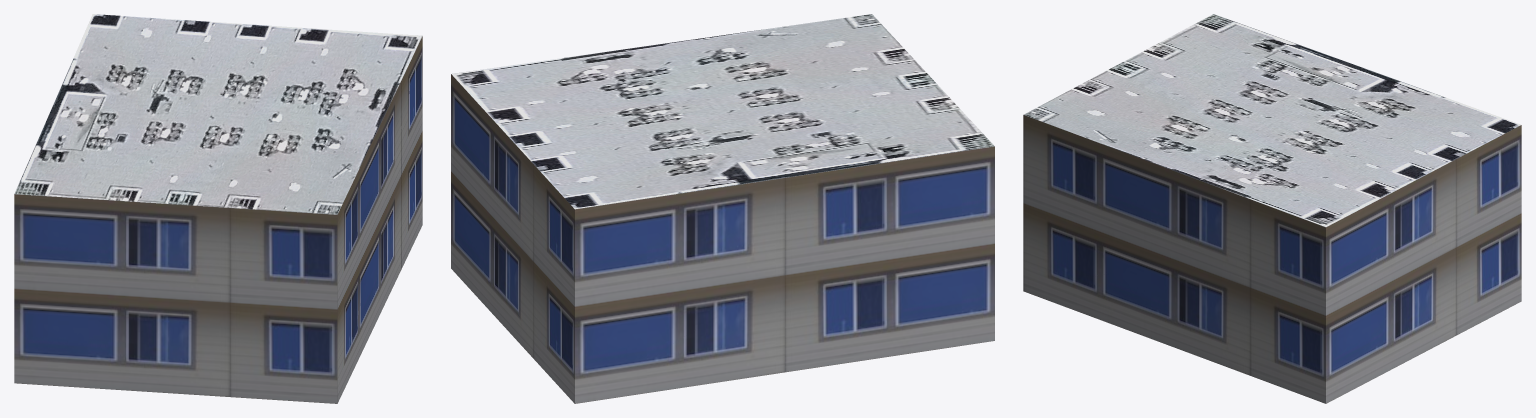
Rendered from ResTex__2957.fbx.
3 renders of one model, left to right at view 1: azimuth 30°, elevation 25°; view 2: azimuth 150°, elevation 25°; view 3: azimuth 270°, elevation 25°, orthographic. The views are drawn at different scales.
Visible parts, largest first — view 1: CityEngineMaterial_23_m, CityEngineMaterial_4_m; view 2: CityEngineMaterial_23_m, CityEngineMaterial_4_m; view 3: CityEngineMaterial_23_m, CityEngineMaterial_4_m.
Part boxes in pixels (bbox=[...]): CityEngineMaterial_23_m: bbox=[14, 36, 422, 403]; CityEngineMaterial_4_m: bbox=[14, 14, 422, 214]; CityEngineMaterial_23_m: bbox=[451, 74, 994, 403]; CityEngineMaterial_4_m: bbox=[451, 14, 994, 209]; CityEngineMaterial_23_m: bbox=[1023, 115, 1521, 403]; CityEngineMaterial_4_m: bbox=[1024, 14, 1520, 227].
Size of the model in its own units: 15.54 by 6 by 15.34.
Materials: 2 (2 with a texture image).
